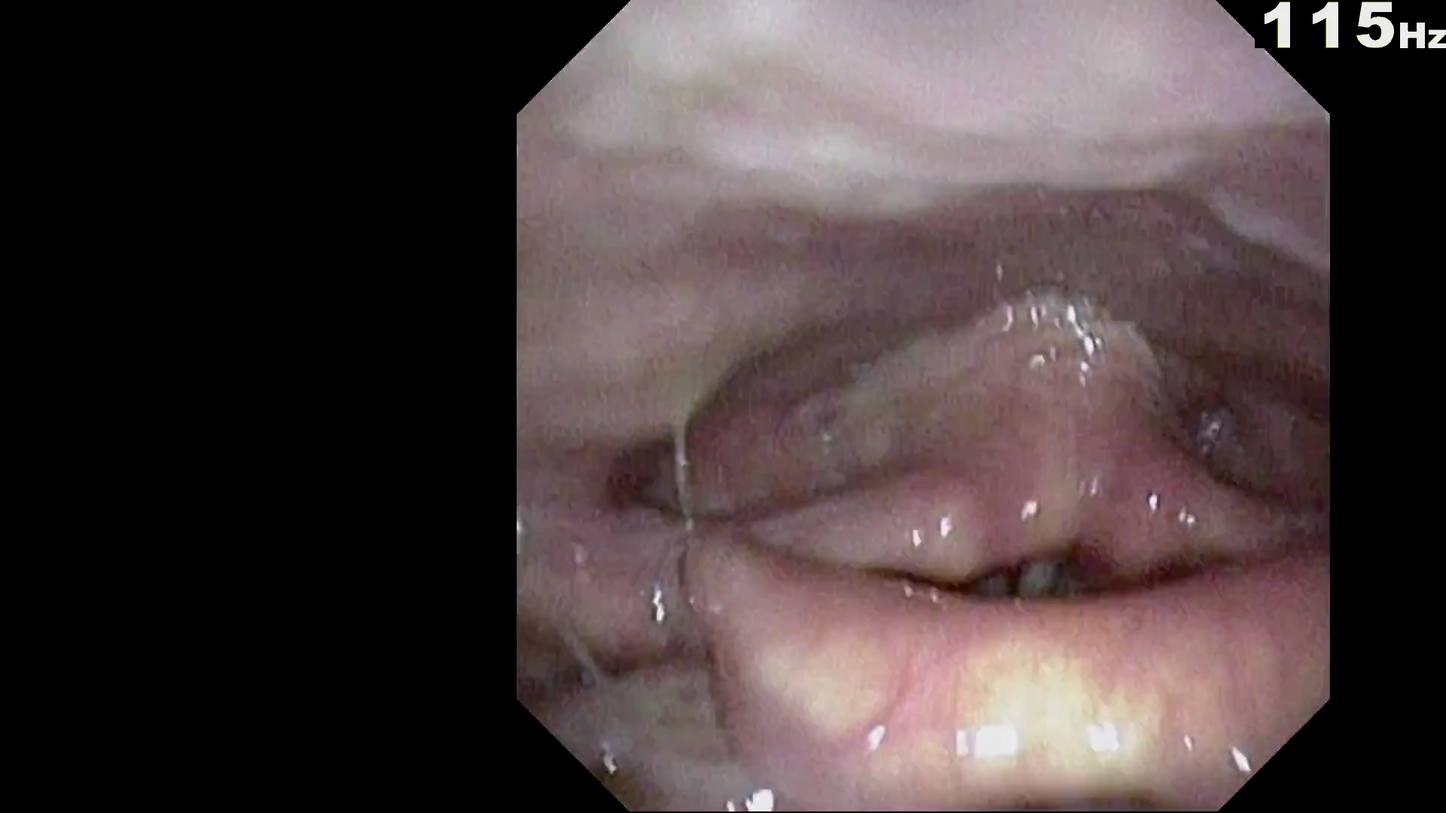epiglottis: (702, 592, 1251, 760)
